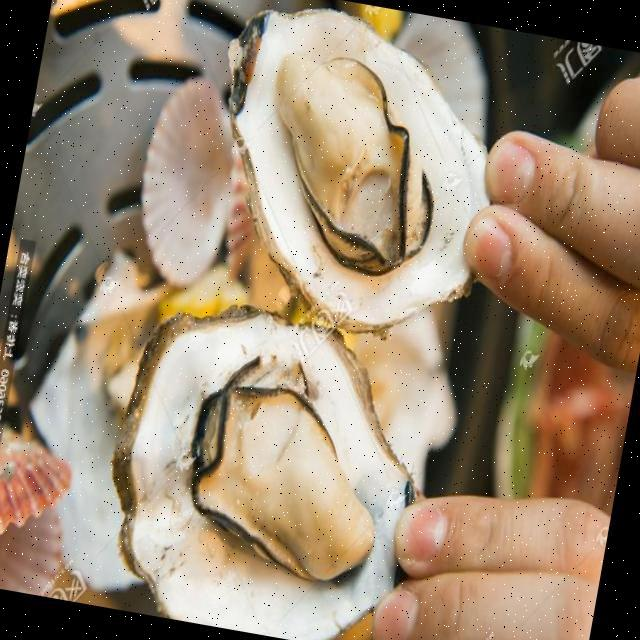Oyster-Open: (104, 305, 420, 640), (228, 14, 489, 323)
